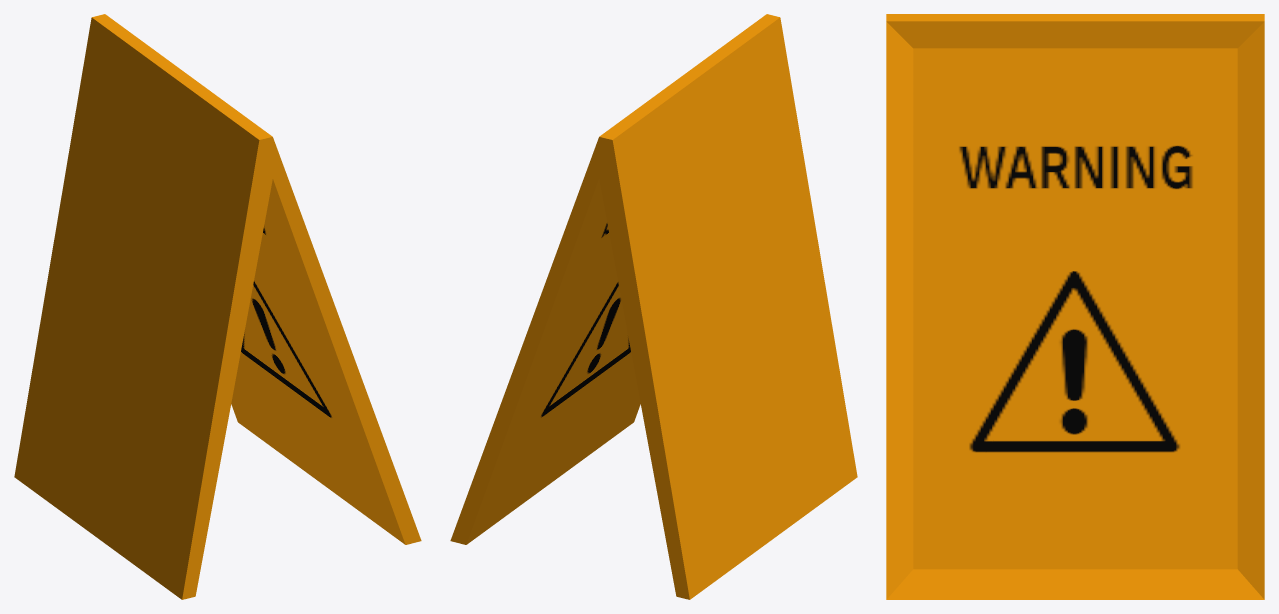
File: _warningsign.fbx
3 renders of one model, left to right at view 1: azimuth 30°, elevation 25°; view 2: azimuth 150°, elevation 25°; view 3: azimuth 270°, elevation 25°, orthographic. The views are drawn at different scales.
Parts seen in each view (by area): view 1: Cube; view 2: Cube; view 3: Cube.
Part boxes in pixels (<box>): Cube: <box>14,14,421,599</box>; Cube: <box>450,14,857,599</box>; Cube: <box>886,14,1264,599</box>.
Bounding box in the file's own units: 103 × 182 × 125.
Materials: 1 (1 with a texture image).
